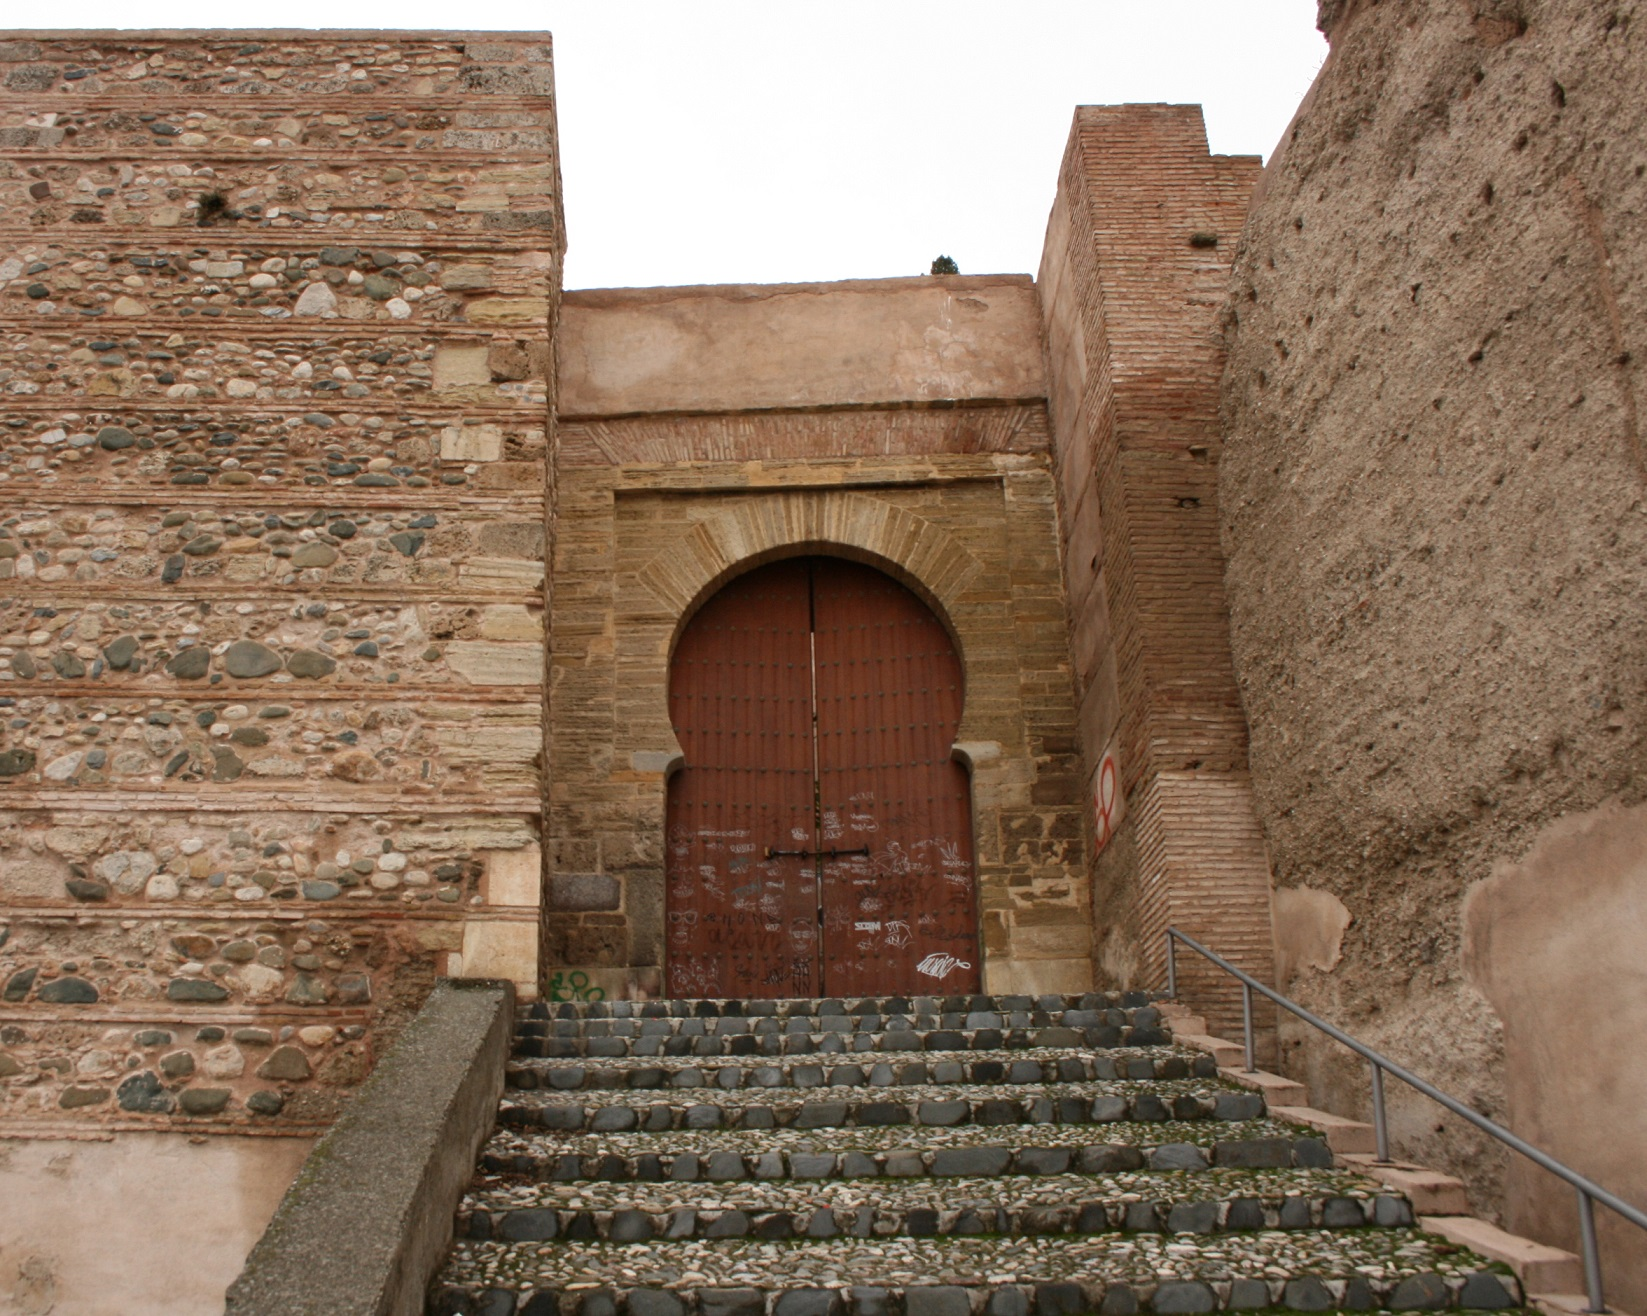arco-herradura: (639, 525, 995, 798)
